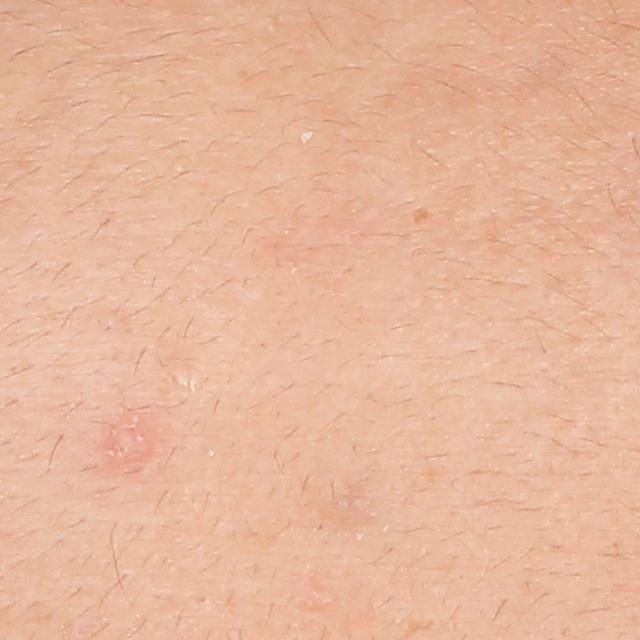atrophic_scar: (410, 207, 432, 224)
